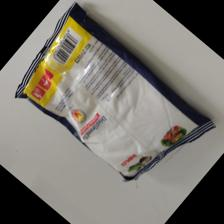Salt: (12, 2, 211, 186)
